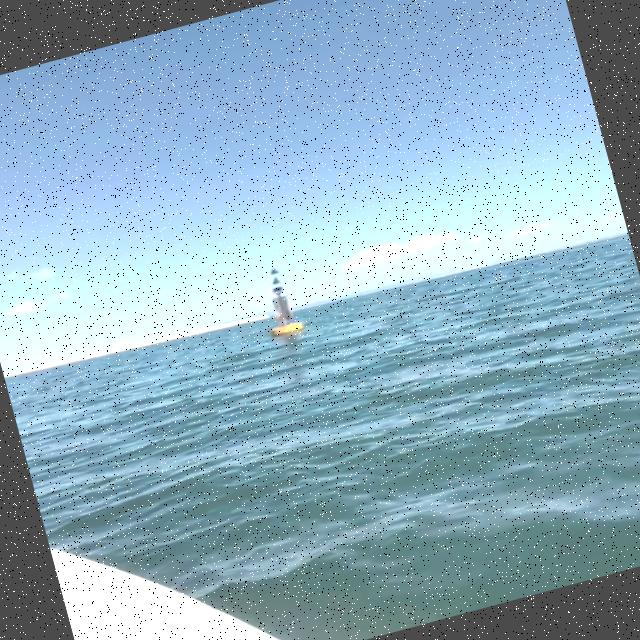marque: (257, 266, 303, 338)
